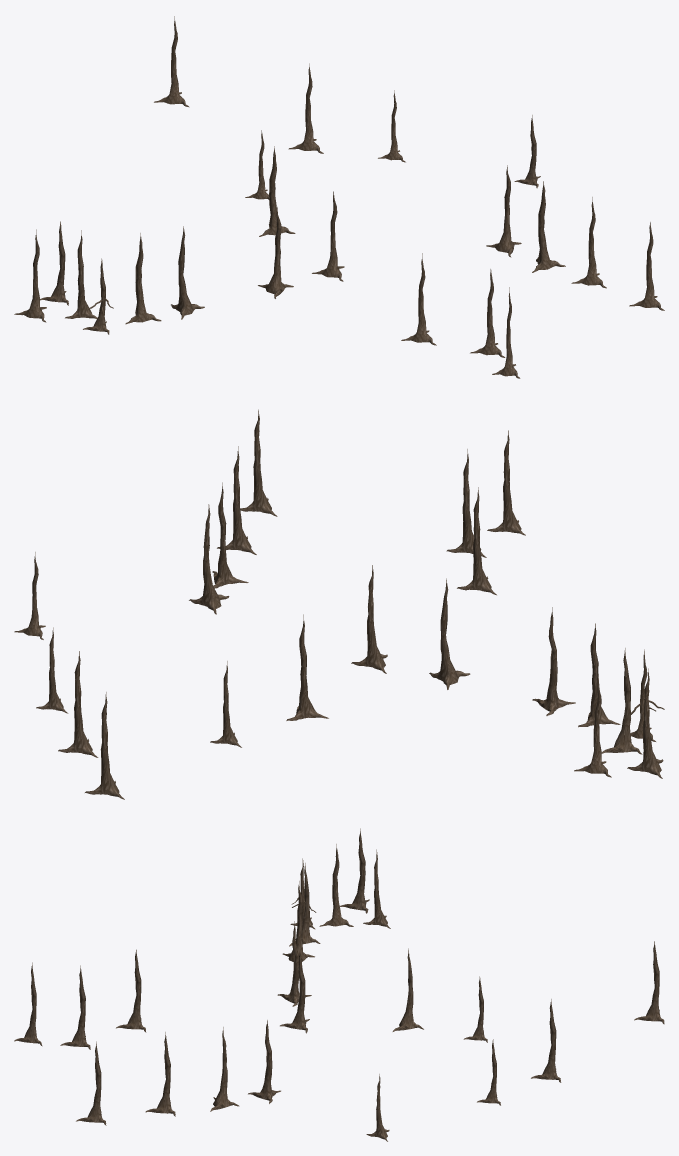
The model's file is songshugan_07.FBX.
3 views of the same model, one above another, from view 1: azimuth 30°, elevation 25°; view 2: azimuth 150°, elevation 25°; view 3: azimuth 270°, elevation 25° (orthographic). The views are drawn at different scales.
Parts seen in each view (by area): view 1: Object034; view 2: Object034; view 3: Object034.
Boxes of the visible parts, <box> form: Object034: <box>14,16,664,378</box>; Object034: <box>14,409,664,799</box>; Object034: <box>14,828,664,1141</box>.
Bounding box in the file's own units: 10316 × 2078 × 11722.
